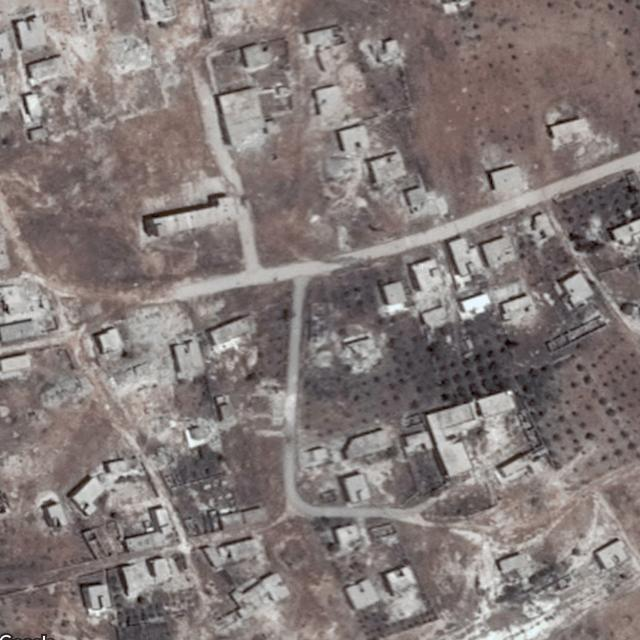damaged_building: (103, 300, 193, 399), (66, 24, 154, 76), (306, 324, 390, 373), (320, 154, 366, 205)
